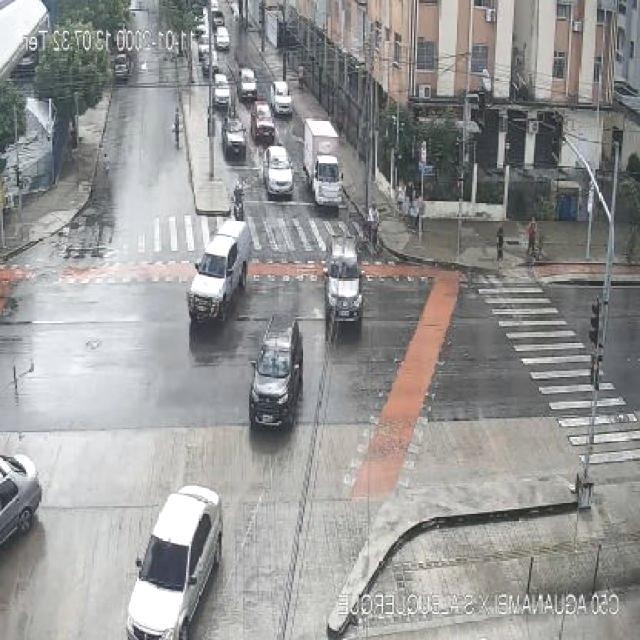Car: (120, 480, 227, 640), (187, 220, 252, 322), (248, 316, 303, 428), (0, 453, 42, 553), (324, 238, 363, 328), (263, 146, 295, 200), (250, 100, 276, 143), (222, 118, 247, 160), (270, 80, 292, 116), (238, 68, 258, 100), (212, 74, 231, 106), (113, 54, 131, 80), (214, 26, 231, 50), (197, 41, 211, 65), (211, 3, 225, 26), (196, 17, 208, 36)
Truck: (303, 116, 348, 213)
